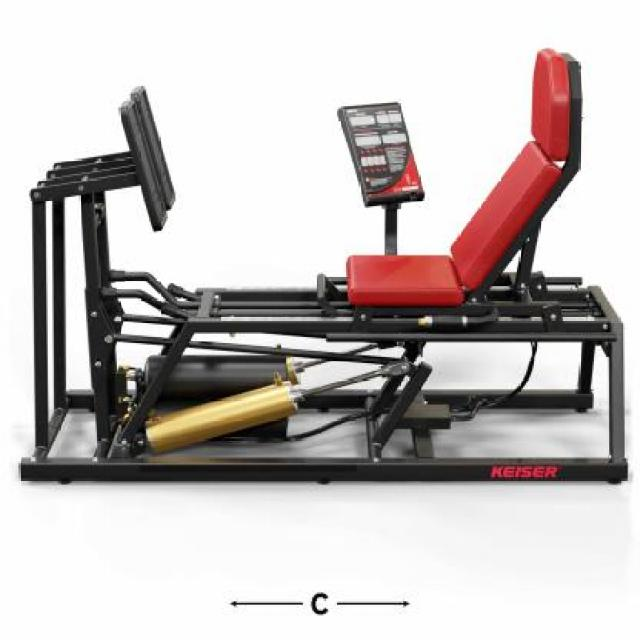leg press: (12, 36, 640, 510)
